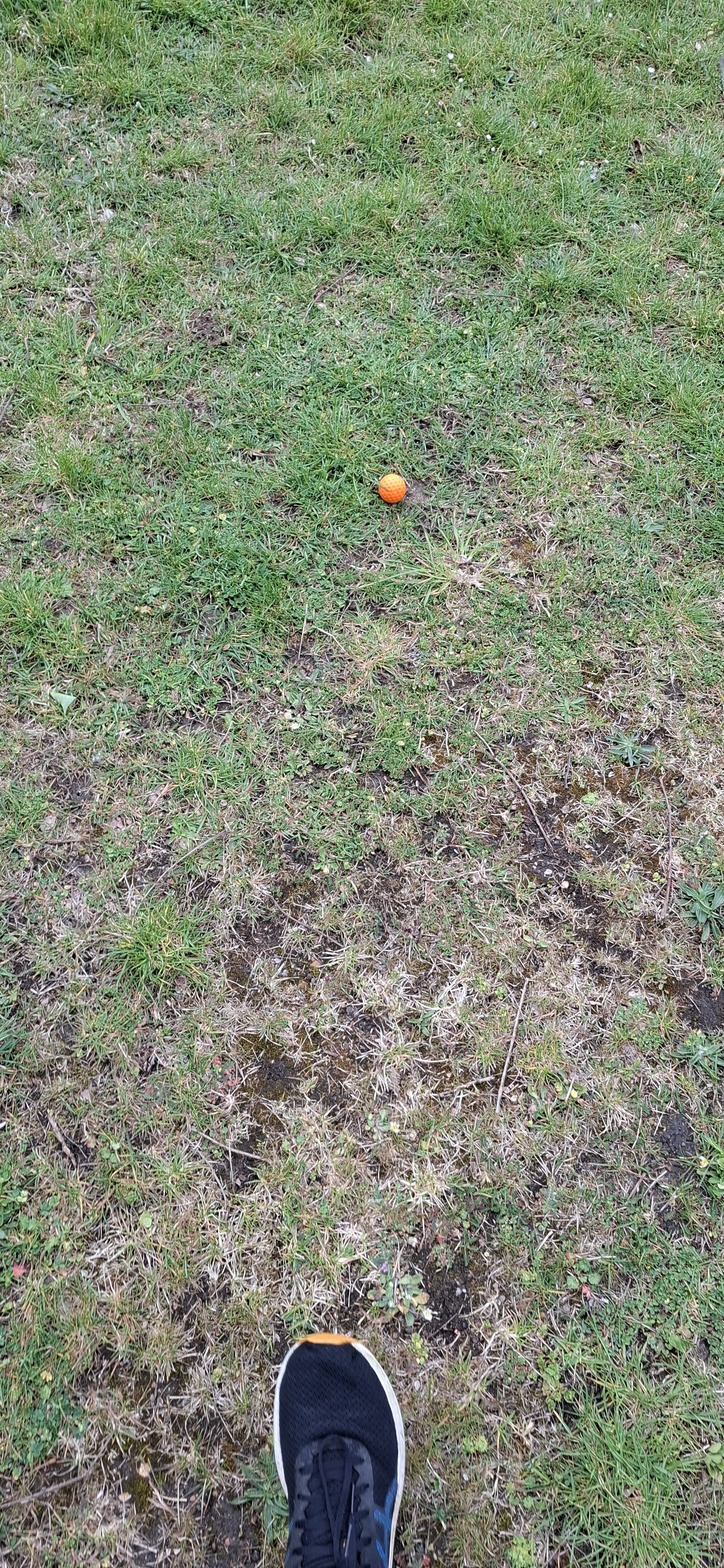ball: (219, 688, 233, 747)
